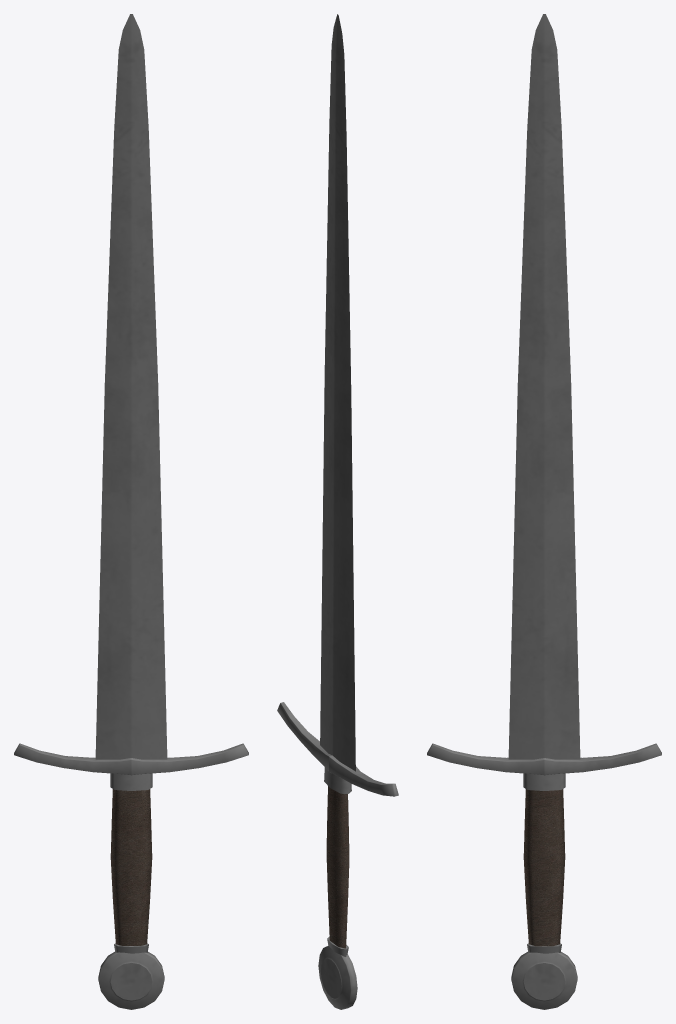
Rendered from kings_sword.gltf.
3 views of the same model, side by side, from view 1: azimuth 90°, elevation 25°; view 2: azimuth 210°, elevation 25°; view 3: azimuth 270°, elevation 25° (orthographic).
Parts seen in each view (by area): view 1: Cylinder; view 2: Cylinder; view 3: Cylinder.
Part boxes in pixels (box(x1,y1,x2,y2)): Cylinder: box(14, 14, 248, 1009); Cylinder: box(277, 14, 398, 1009); Cylinder: box(427, 14, 661, 1009).
Size of the model in its own units: 0.0187 by 0.9806 by 0.2098.
1 material, 1 textured.
